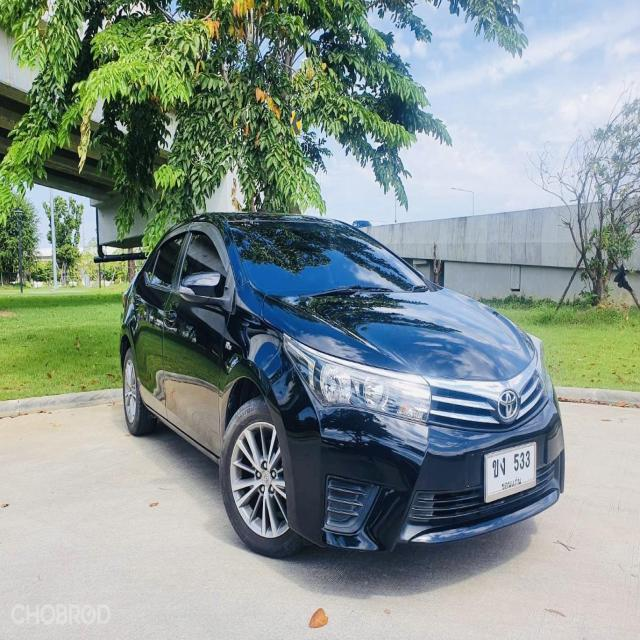license_plate: (480, 440, 540, 510)
